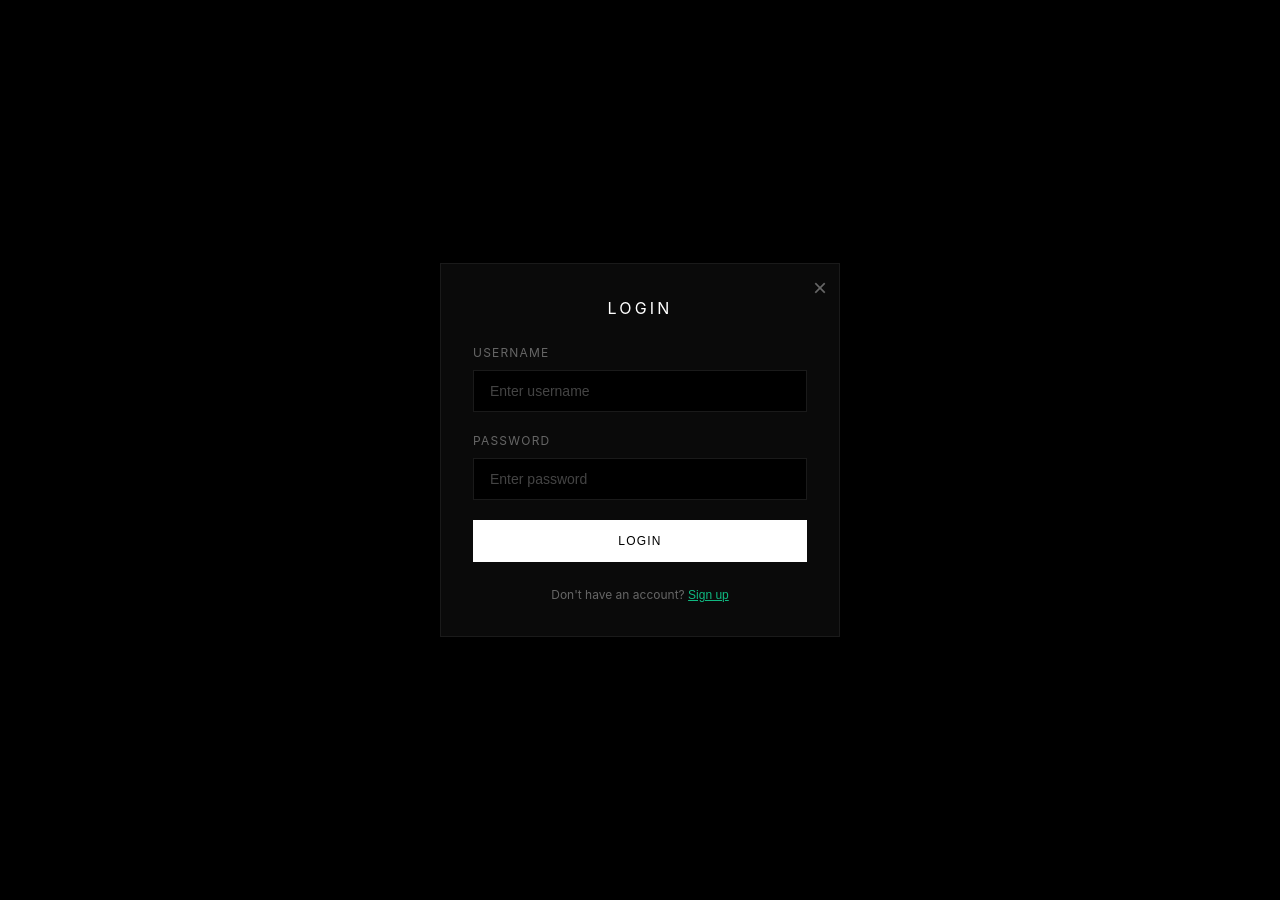
Test: AuthModal › displays error message on register failure
# Switch to register mode
Step 1. Click the button "Sign up" → (708,595), box x1=688 y1=588 x2=729 y2=602
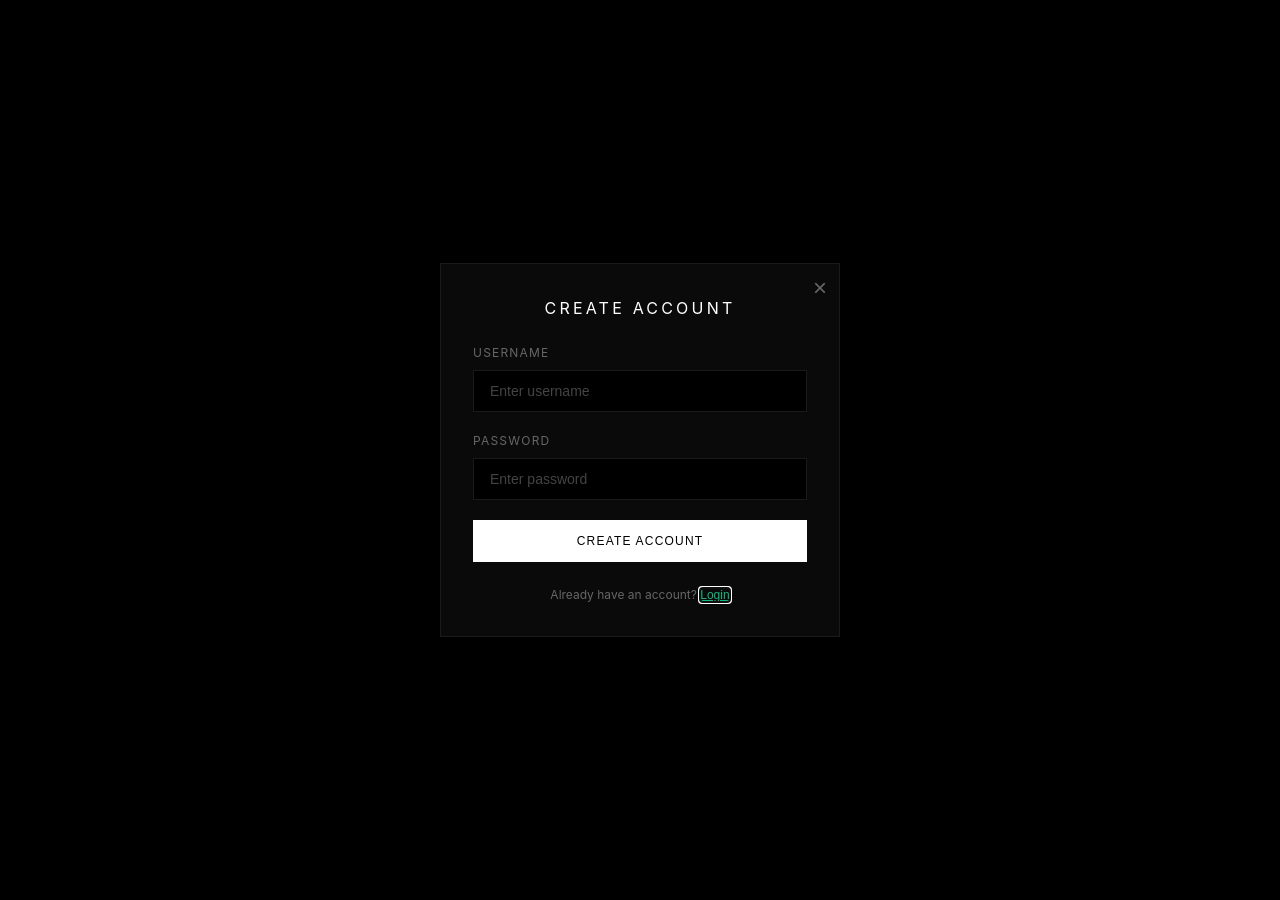
Step 2. Type "existinguser" into the field labelled "Username" → (640,391), box x1=473 y1=370 x2=807 y2=412
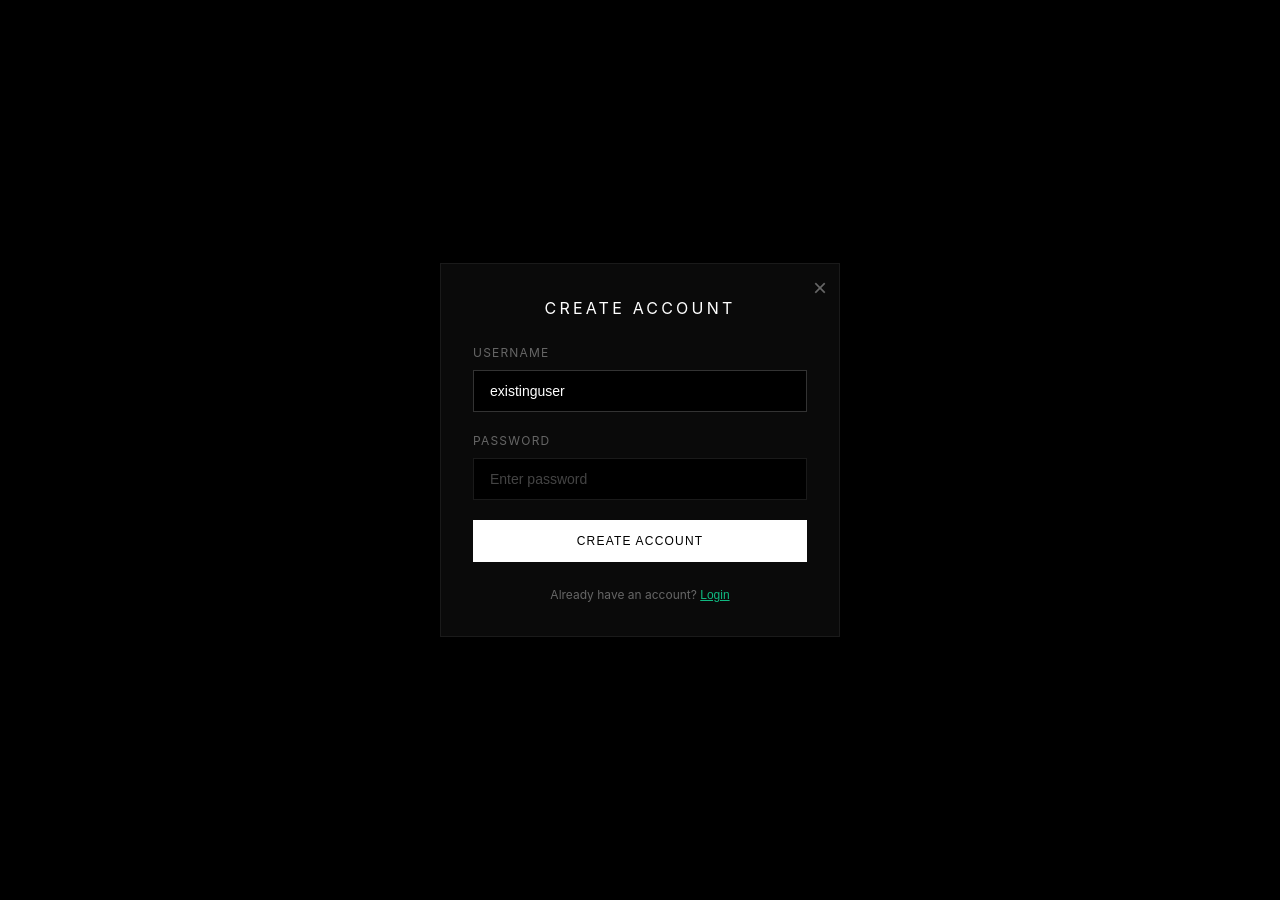
Step 3. Type "password123" into the password field labelled "Password" → (640,479), box x1=473 y1=458 x2=807 y2=500
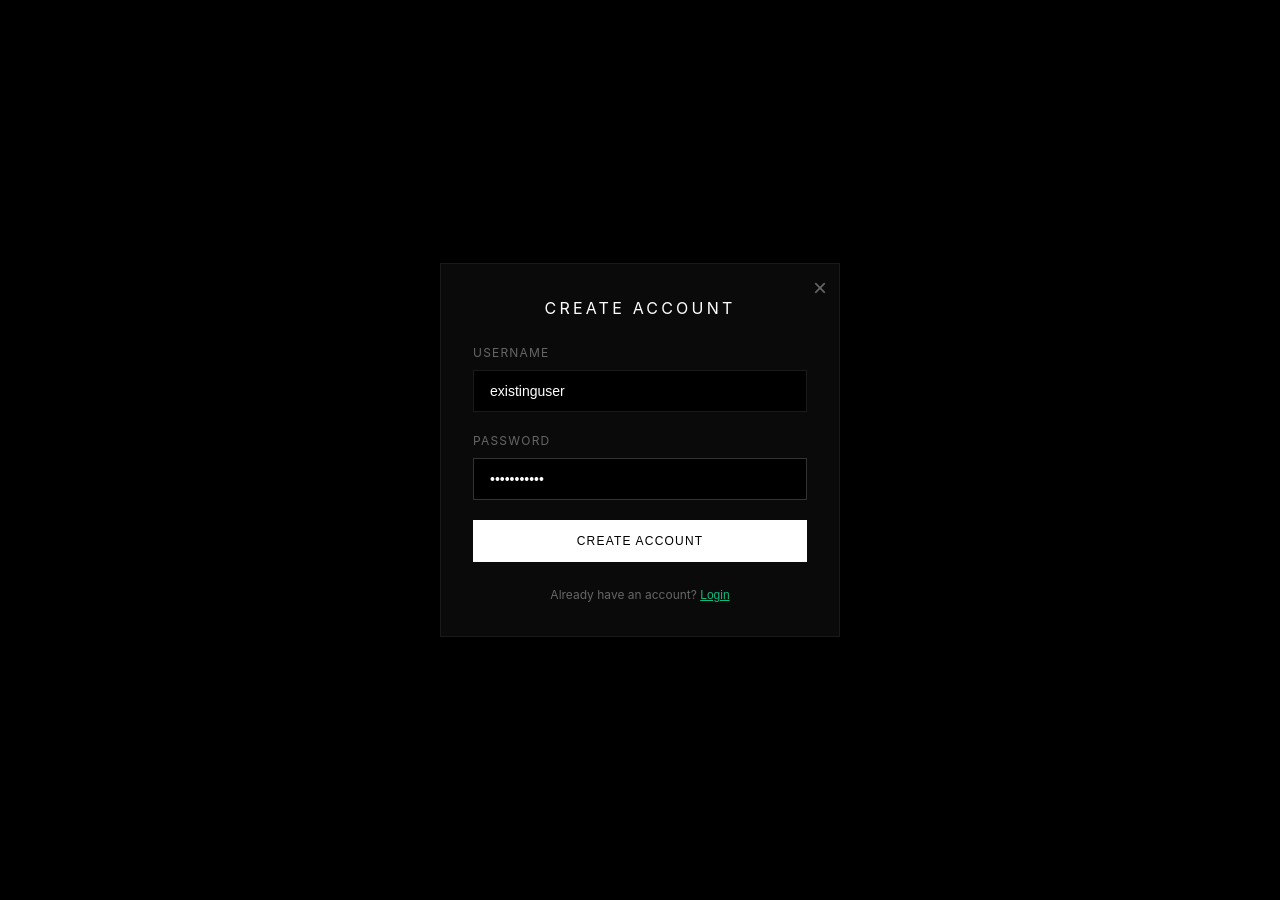
Step 4. Click the button "Create Account" → (640,541), box x1=473 y1=520 x2=807 y2=562
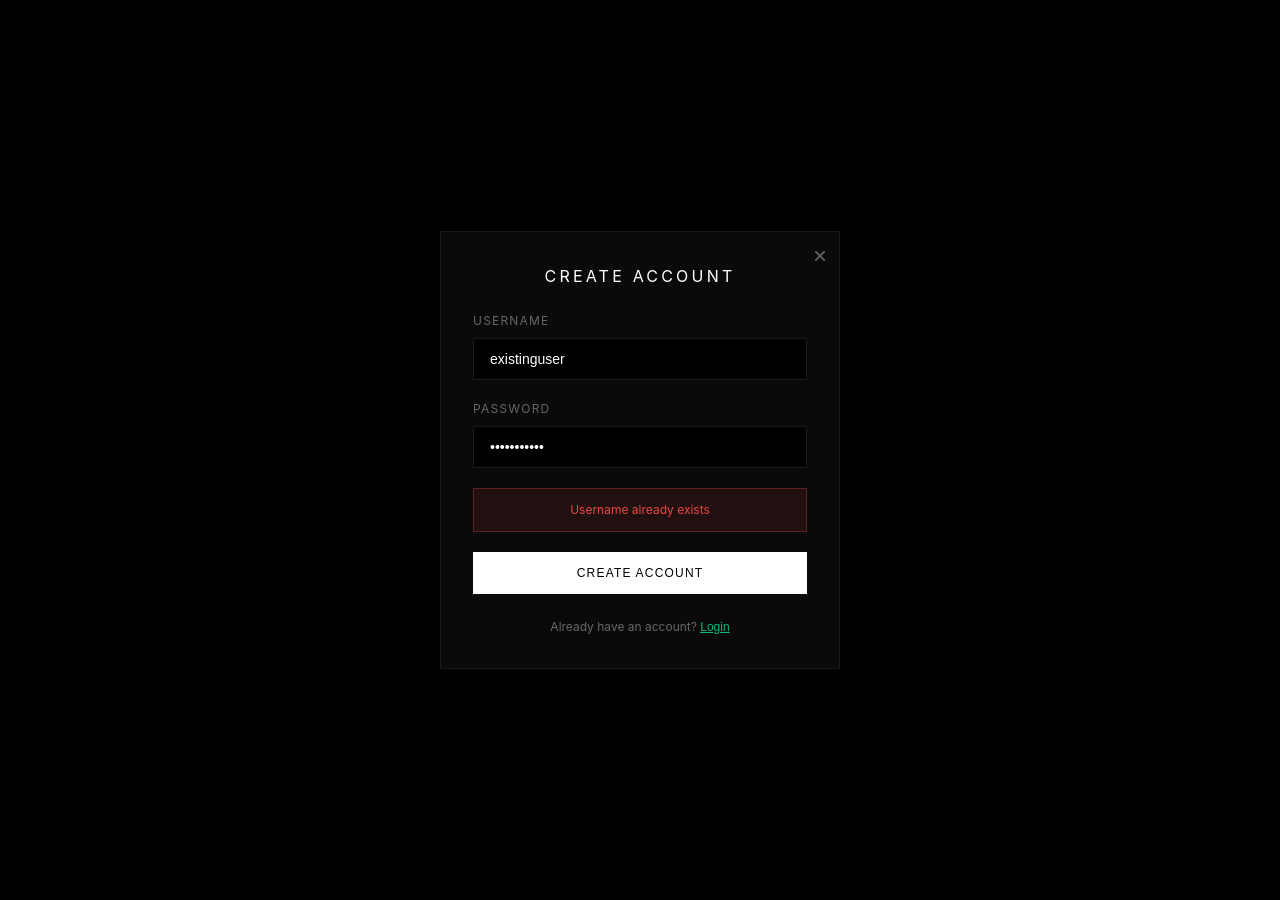
Now the text "Username already exists" is shown, box x1=473 y1=488 x2=807 y2=532
